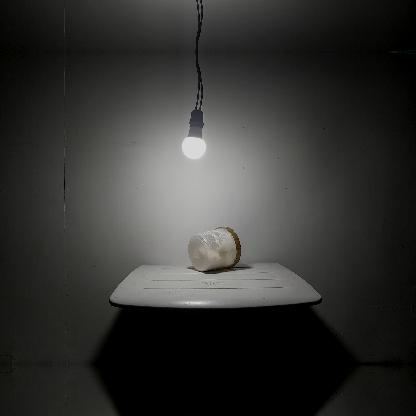Lady-s-Choice: (187, 224, 243, 272)
